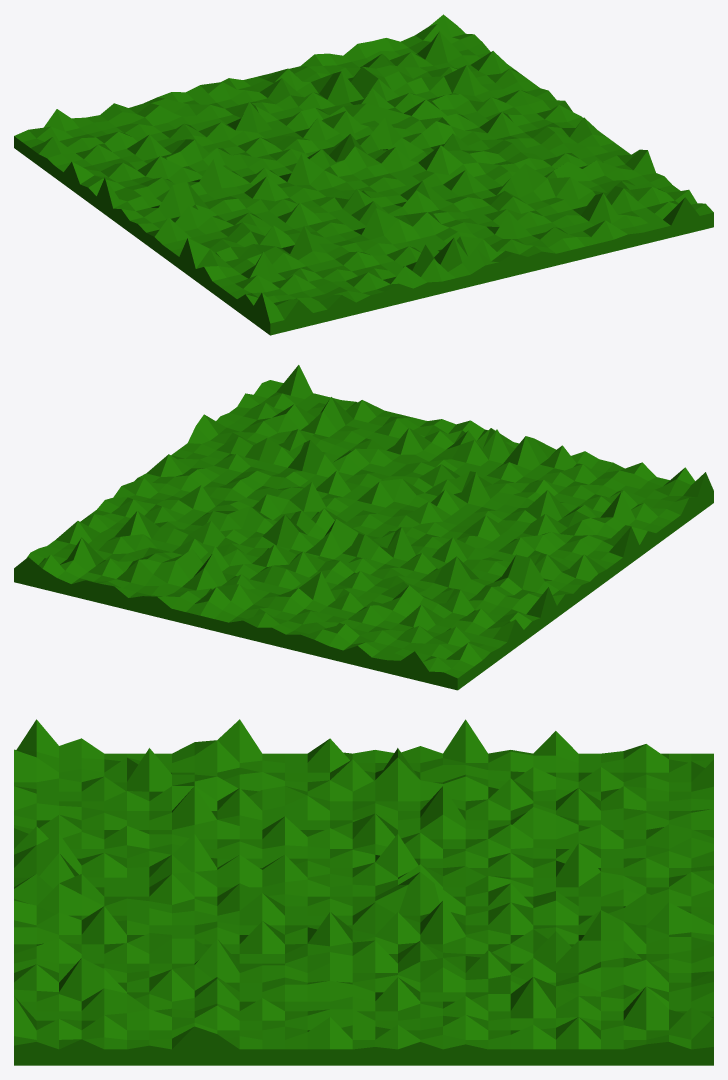
File: lawn-grass.glb
3 renders of one model, top to bottom at view 1: azimuth 30°, elevation 25°; view 2: azimuth 150°, elevation 25°; view 3: azimuth 270°, elevation 25°, orthographic. The views are drawn at different scales.
Parts seen in each view (by area): view 1: 5_nft_summer; view 2: 5_nft_summer; view 3: 5_nft_summer.
Boxes of the visible parts, x1=… form: 5_nft_summer: x1=14, y1=14, x2=713, y2=335; 5_nft_summer: x1=14, y1=365, x2=713, y2=690; 5_nft_summer: x1=14, y1=719, x2=713, y2=1065.
Bounding box in the file's own units: 1.4 × 0.1121 × 1.4.
